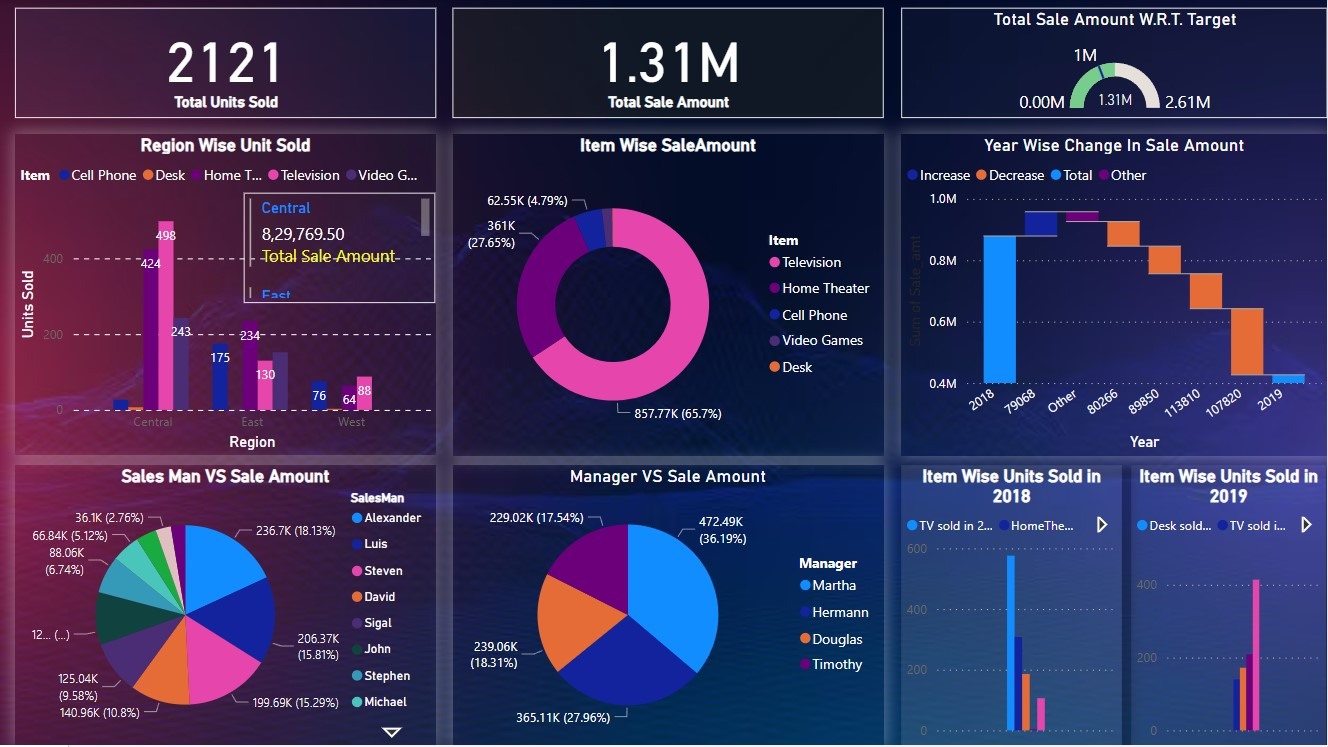

Layout of this report page (visuals, bound fields, positions):
{"tool":"powerbi","page":{"name":"Page 1","canvas":[1280,720],"ordinal":0},"visuals":[{"type":"card","fields":{"Values":["SaleData.Total Sale Amount"]},"box":[436,8,416,106],"z":0},{"type":"card","fields":{"Values":["SaleData.Total Units Sold"]},"box":[14.5,8.4,406.4,106.1],"z":1000},{"type":"clusteredColumnChart","title":"Region Wise Unit Sold","fields":{"Category":["SaleData.Region"],"Y":["SaleData.Units"],"Series":["SaleData.Item"]},"box":[14.5,130.3,406.4,309.9],"z":2000},{"type":"pieChart","title":"Sales Man VS Sale Amount","fields":{"Category":["SaleData.SalesMan"],"Y":["SaleData.Sale_amt"]},"box":[14,450,406,270],"z":3000},{"type":"donutChart","title":"Item Wise SaleAmount","fields":{"Category":["SaleData.Item"],"Y":["SaleData.Sale_amt"]},"box":[436,130,416,310],"z":4000},{"type":"multiRowCard","fields":{"Values":["SaleData.Total Sale Amount","SaleData.Region"]},"box":[235,187,185,106],"z":5000},{"type":"gauge","title":"Total Sale Amount W.R.T. Target","fields":{"Y":["SaleData.Total Sale Amount"],"TargetValue":["SaleData.Target"]},"box":[869,8,411,106],"z":6000},{"type":"pieChart","title":"Manager VS Sale Amount","fields":{"Category":["SaleData.Manager"],"Y":["SaleData.Sale_amt"]},"box":[436,450,416,270],"z":7000},{"type":"waterfallChart","title":"Year Wise Change In Sale Amount","fields":{"Breakdown":["SaleData.Sale_amt"],"Category":["SaleData.Year"],"Y":["SaleData.Sale_amt"]},"box":[869,130,411,310],"z":8000},{"type":"clusteredColumnChart","title":"Item Wise Units Sold in 2018","fields":{"Y":["SaleData.TV sold in 2018","SaleData.HomeTheater sold in 2018","SaleData.Games sold in 2018","SaleData.Desk sold in 2018","SaleData.Phoen sold in 2018"]},"box":[869,450,213,270],"z":9000},{"type":"clusteredColumnChart","title":"Item Wise Units Sold in 2019","fields":{"Y":["SaleData.Desk sold in 2019","SaleData.TV sold in 2019","SaleData.Phone sold in 2019","SaleData.Games sold in 2019","SaleData.HT sold in 2019"]},"box":[1092,450,188,270],"z":9001}]}

Visuals, with their boxes in screenshot pixels (x1, y1, x2, y2), scaled from the page's 1280x720 canvas onto the 1328x747 screenshot:
card - SaleData.Total Sale Amount: select_region(452, 8, 884, 118)
card - SaleData.Total Units Sold: select_region(15, 9, 437, 119)
"Region Wise Unit Sold" clusteredColumnChart: select_region(15, 135, 437, 457)
"Sales Man VS Sale Amount" pieChart: select_region(15, 467, 436, 746)
"Item Wise SaleAmount" donutChart: select_region(452, 135, 884, 457)
multiRowCard - SaleData.Total Sale Amount x SaleData.Region: select_region(244, 194, 436, 304)
"Total Sale Amount W.R.T. Target" gauge: select_region(902, 8, 1327, 118)
"Manager VS Sale Amount" pieChart: select_region(452, 467, 884, 746)
"Year Wise Change In Sale Amount" waterfallChart: select_region(902, 135, 1327, 457)
"Item Wise Units Sold in 2018" clusteredColumnChart: select_region(902, 467, 1123, 746)
"Item Wise Units Sold in 2019" clusteredColumnChart: select_region(1133, 467, 1327, 746)
